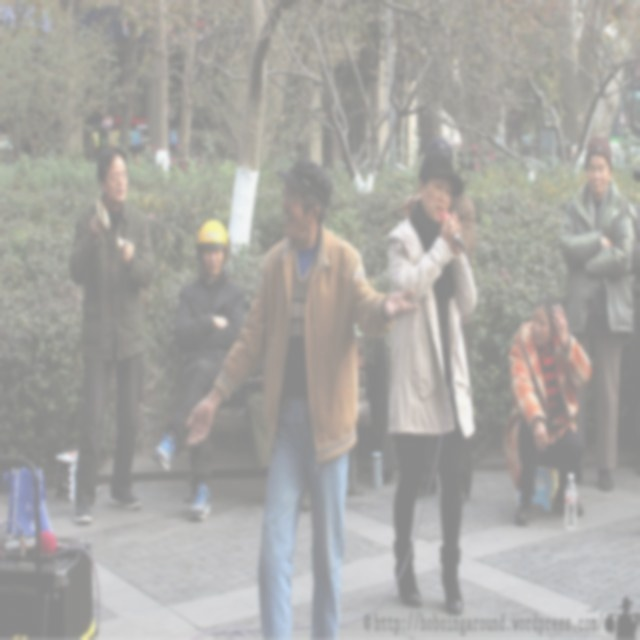pessoa: (182, 155, 424, 640), (383, 147, 479, 618), (64, 142, 158, 526), (148, 217, 248, 524), (556, 132, 638, 494), (399, 136, 477, 507), (501, 291, 594, 528), (631, 168, 640, 334), (37, 148, 88, 166), (544, 150, 560, 170), (2, 149, 15, 167), (566, 146, 573, 162), (528, 152, 534, 158), (116, 138, 120, 146), (556, 138, 558, 144)
